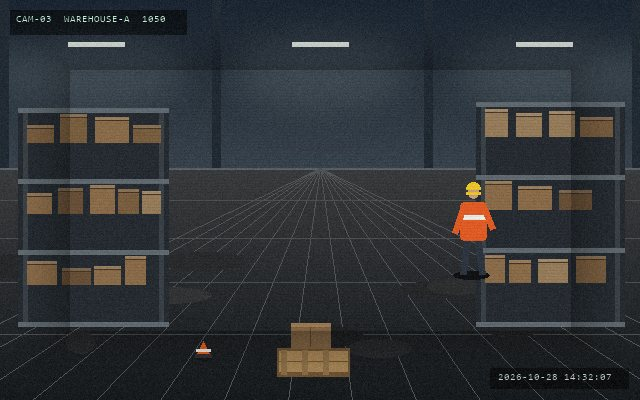cone: (194, 339, 212, 360)
pallet: (275, 346, 351, 378)
person: (452, 180, 494, 278)
shelf: (476, 102, 624, 322), (18, 108, 168, 322)
